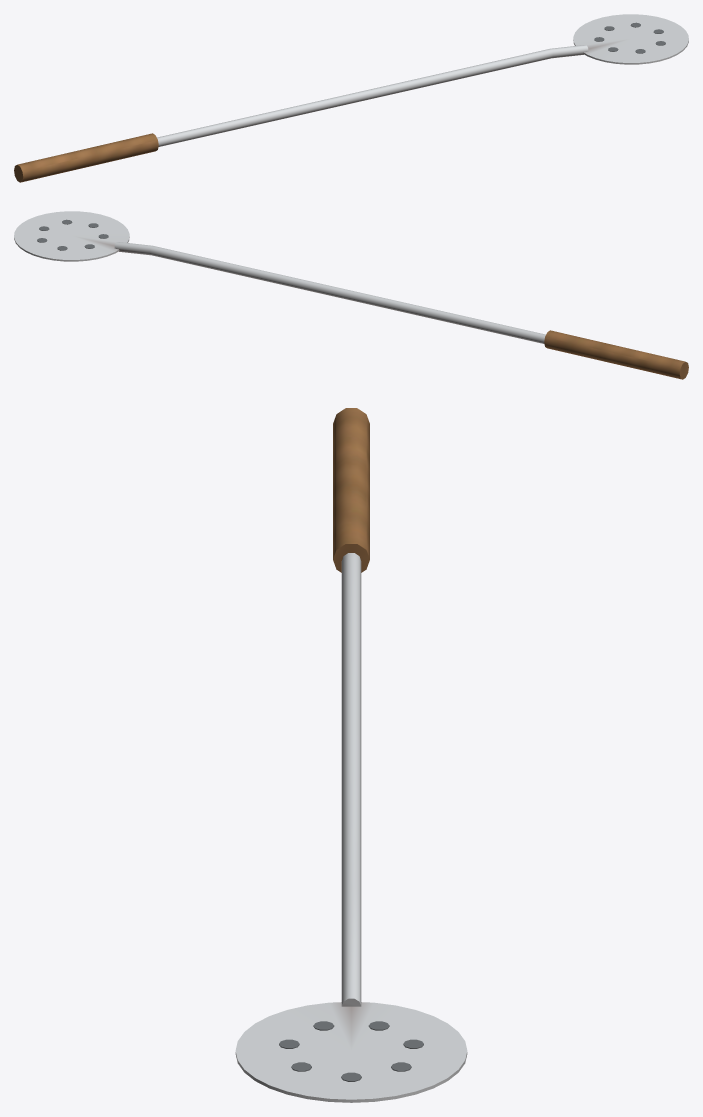
File: fp-peel-turning.gltf
3 renders of one model, top to bottom at view 1: azimuth 30°, elevation 25°; view 2: azimuth 150°, elevation 25°; view 3: azimuth 270°, elevation 25°, orthographic. The views are drawn at different scales.
Parts seen in each view (by area): view 1: model; view 2: model; view 3: model.
Boxes of the visible parts, x1,y1,x2,y2 form: model: [14, 14, 688, 182]; model: [14, 211, 688, 379]; model: [235, 408, 467, 1102].
Size of the model in its own units: 1.32 by 0.0507 by 0.2.
3 materials, 1 textured.
